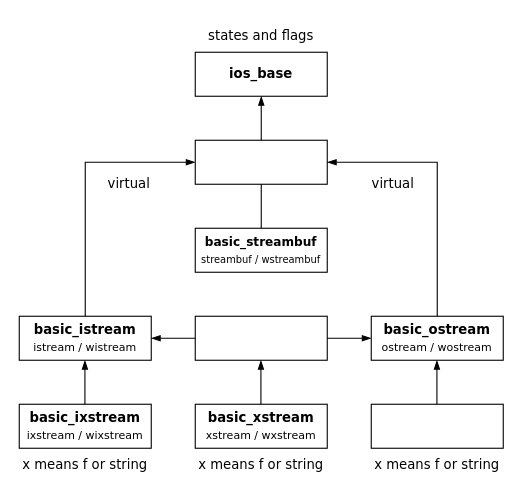
The diagram is 523 pixels wide and 499 high, and some of its shapes have lost their labels. Each missing label, with the centre of its shape:
"basic_ios ios / wios" goes at point (260, 161).
"basic_iostream iostream / wio stream" goes at point (260, 337).
"basic_oxstream oxstream / wox stream" goes at point (436, 425).
